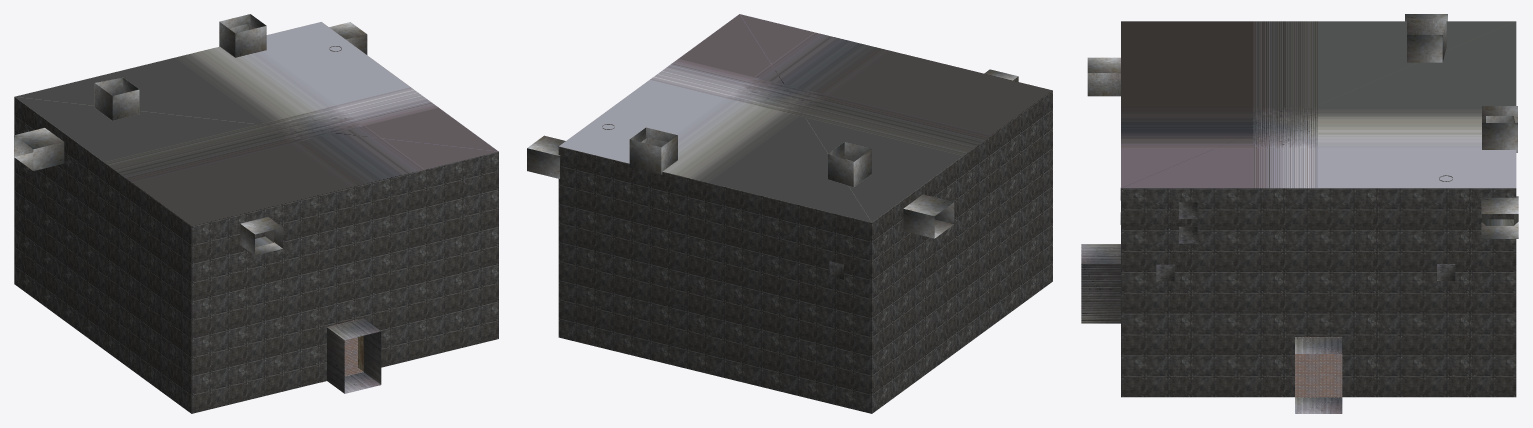
The model's file is room_5.fbx.
3 views of the same model, side by side, from view 1: azimuth 30°, elevation 25°; view 2: azimuth 150°, elevation 25°; view 3: azimuth 270°, elevation 25° (orthographic). The views are drawn at different scales.
Parts seen in each view (by area): view 1: Plane.002, Plane.004, Plane.001, Plane.003, Plane; view 2: Plane.002, Plane.004, Plane.001; view 3: Plane.002, Plane.004, Plane.001, Plane.003, Plane, Plane.005.
Part boxes in pixels (x1,y1,x2,y2): Plane.002: [14, 97, 498, 413]; Plane.004: [14, 22, 498, 226]; Plane.001: [14, 14, 367, 255]; Plane.003: [327, 318, 381, 393]; Plane: [328, 319, 363, 376]; Plane.002: [558, 90, 1052, 413]; Plane.004: [559, 14, 1052, 222]; Plane.001: [527, 69, 1018, 238]; Plane.002: [1121, 188, 1516, 397]; Plane.004: [1121, 21, 1516, 188]; Plane.001: [1087, 14, 1518, 238]; Plane.003: [1081, 244, 1120, 323]; Plane: [1295, 337, 1342, 397]; Plane.005: [1295, 337, 1342, 413].
Bounding box in the file's own units: 1201 × 661 × 1106.
9 materials, 9 textured.
